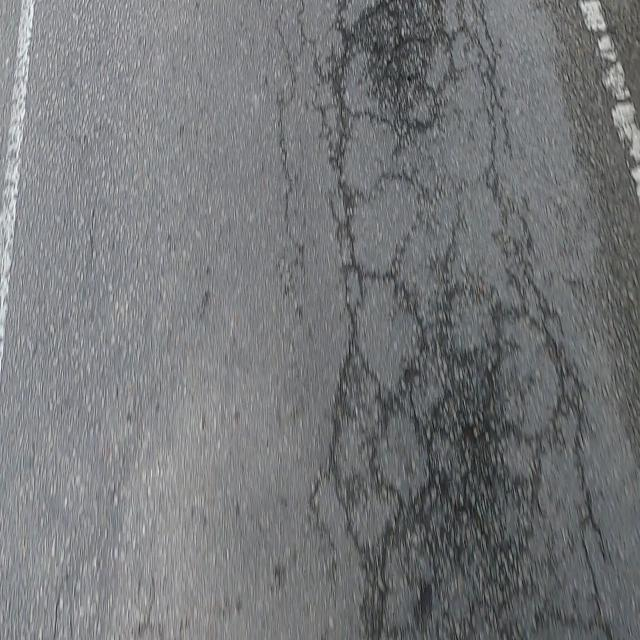Retak-Buaya: (317, 0, 616, 640)
